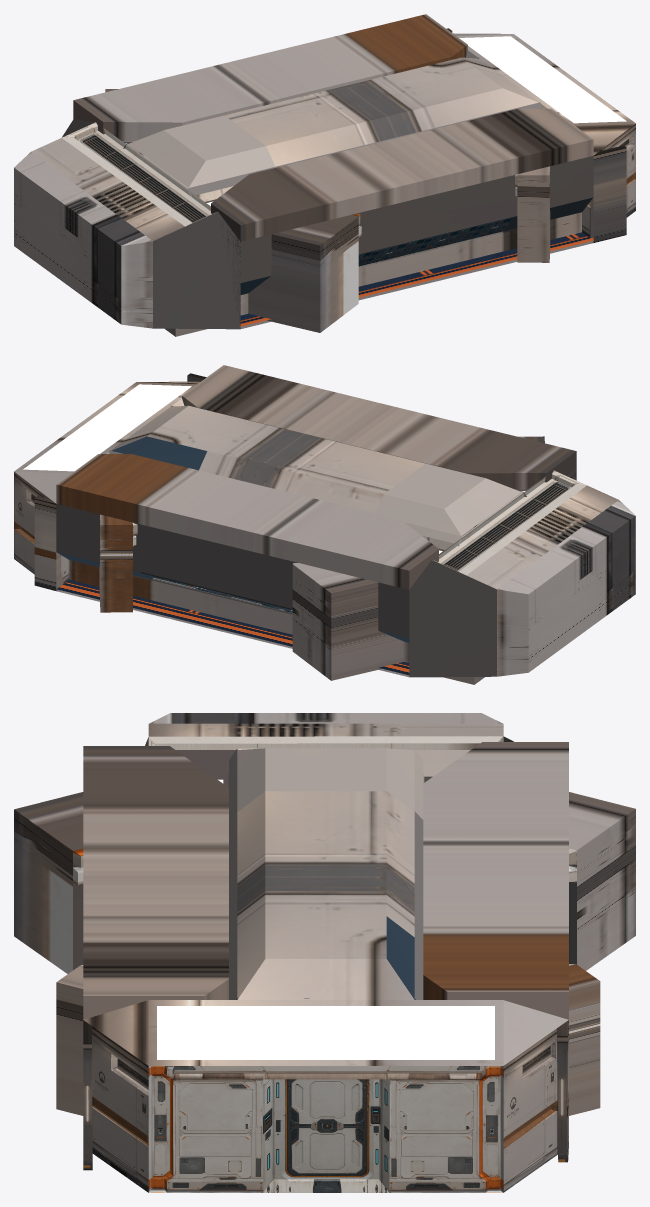
File: Mission_Control.glb
3 views of the same model, one above another, from view 1: azimuth 30°, elevation 25°; view 2: azimuth 150°, elevation 25°; view 3: azimuth 270°, elevation 25° (orthographic). The views are drawn at different scales.
Visible parts, largest first — view 1: MissionControl_Hall, Upper_Light_04, Section02_Floor; view 2: MissionControl_Hall, Upper_Light_04, Section03_Floor; view 3: MissionControl_Hall, Upper_Light_04.
Part boxes in pixels (<box>): MissionControl_Hall: <box>14,14,635,336</box>; Upper_Light_04: <box>459,36,626,123</box>; Section02_Floor: <box>239,232,593,326</box>; MissionControl_Hall: <box>14,365,635,684</box>; Upper_Light_04: <box>23,384,191,471</box>; Section03_Floor: <box>57,580,409,674</box>; MissionControl_Hall: <box>14,713,635,1192</box>; Upper_Light_04: <box>157,1006,494,1059</box>.
Size of what is drawn, in the model's own units: 26.26 by 6.41 by 19.21.
Materials: 17 (14 with a texture image).
